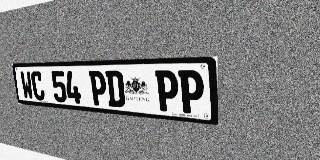4: (64, 71, 82, 104)
5: (51, 71, 67, 103)
C: (30, 71, 45, 101)
D: (105, 71, 125, 108)
P: (178, 70, 204, 115), (155, 70, 179, 112), (89, 71, 108, 106)
W: (20, 71, 34, 100)
